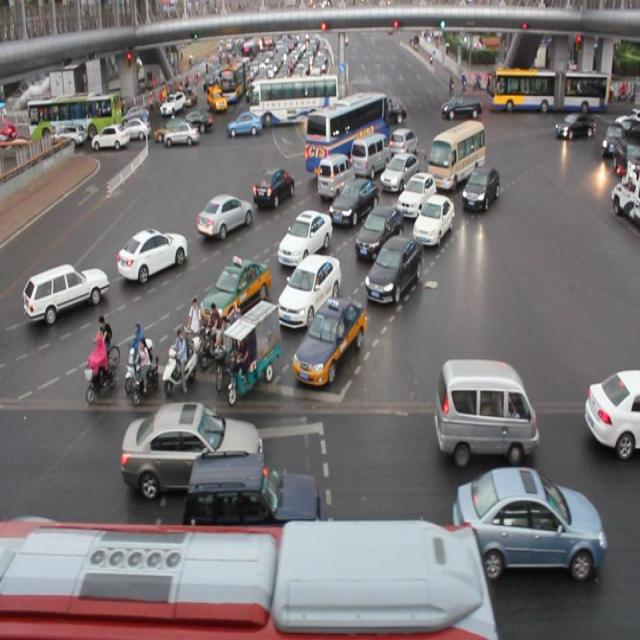car: (452, 463, 605, 581), (122, 397, 262, 497), (186, 447, 322, 533), (292, 300, 366, 385), (199, 255, 271, 334), (24, 258, 109, 322), (583, 363, 640, 456), (276, 251, 341, 330), (362, 231, 423, 307), (117, 224, 187, 282), (276, 211, 332, 268), (350, 208, 401, 264), (197, 192, 253, 241), (328, 177, 379, 225), (412, 194, 455, 247), (460, 167, 500, 212), (254, 167, 297, 208), (396, 172, 436, 214), (381, 149, 420, 189), (553, 111, 594, 140), (390, 126, 418, 162)
truck: (434, 355, 539, 464), (429, 118, 485, 185), (351, 134, 392, 178), (315, 156, 353, 202)
van: (0, 515, 494, 640), (306, 92, 392, 178)
